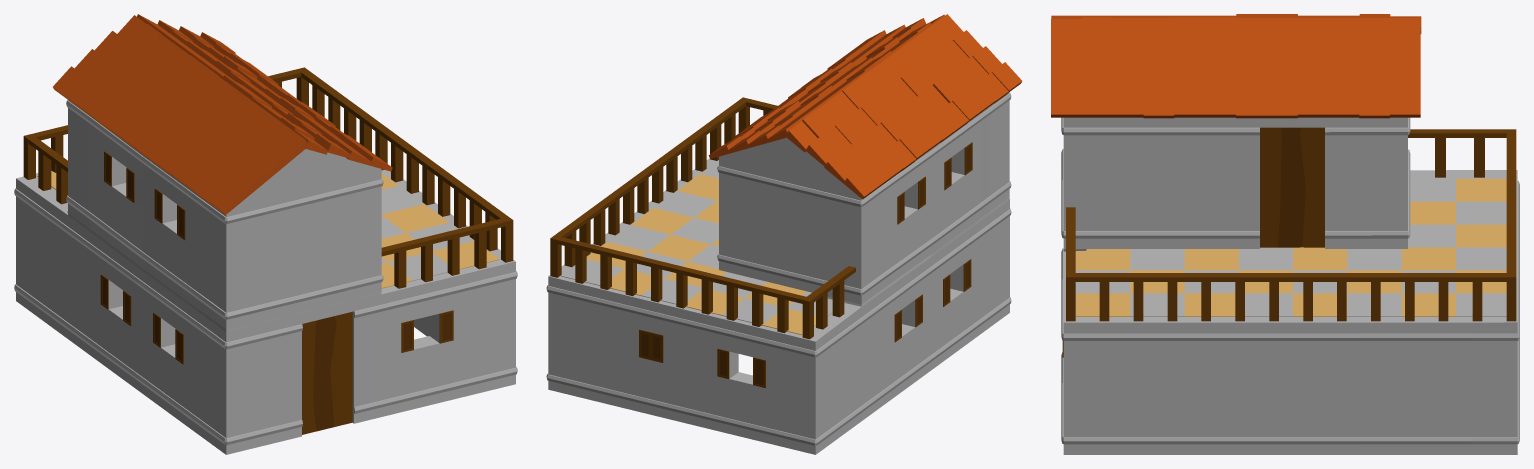
File: House 1.fbx
3 views of the same model, side by side, from view 1: azimuth 30°, elevation 25°; view 2: azimuth 150°, elevation 25°; view 3: azimuth 270°, elevation 25° (orthographic). The views are drawn at different scales.
Parts seen in each view (by area): view 1: railing, Cube.001, Cube; view 2: railing, Cube.001, Cube; view 3: railing, Cube, Cube.001.
Part boxes in pixels (bbox=[...]): railing: bbox=[14, 67, 517, 454]; Cube.001: bbox=[53, 15, 307, 214]; Cube: bbox=[137, 14, 392, 171]; railing: bbox=[546, 92, 1011, 454]; Cube.001: bbox=[785, 14, 1022, 199]; Cube: bbox=[708, 14, 944, 158]; railing: bbox=[1061, 117, 1519, 454]; Cube: bbox=[1051, 17, 1420, 118]; Cube.001: bbox=[1051, 14, 1421, 33].
Size of the model in its own units: 767 by 740 by 963.
